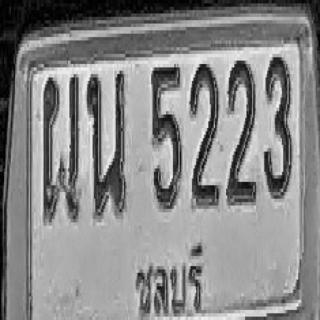A25: (86, 69, 126, 217)
A28: (42, 72, 79, 221)
N02: (226, 57, 256, 202), (190, 61, 218, 205)
N03: (264, 52, 292, 197)
N05: (151, 64, 181, 209)
P13: (128, 232, 215, 320)
